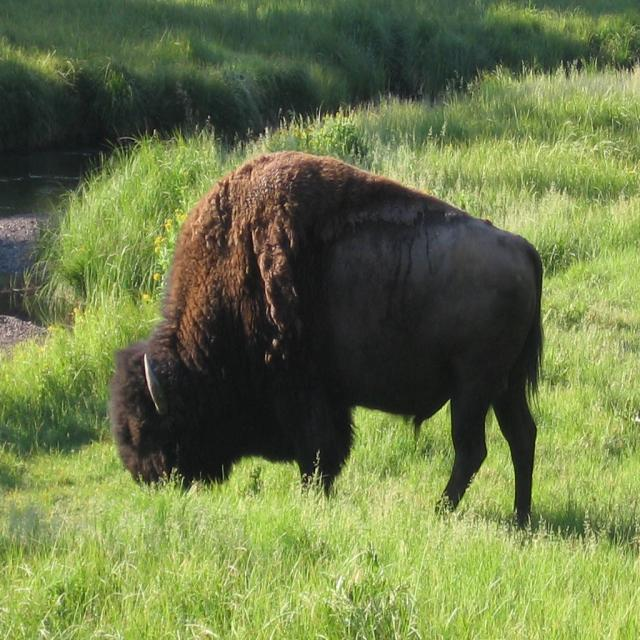Bull: (108, 150, 546, 532)
